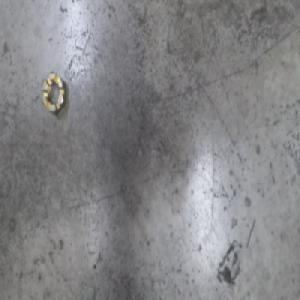Nut: (40, 68, 67, 117)
